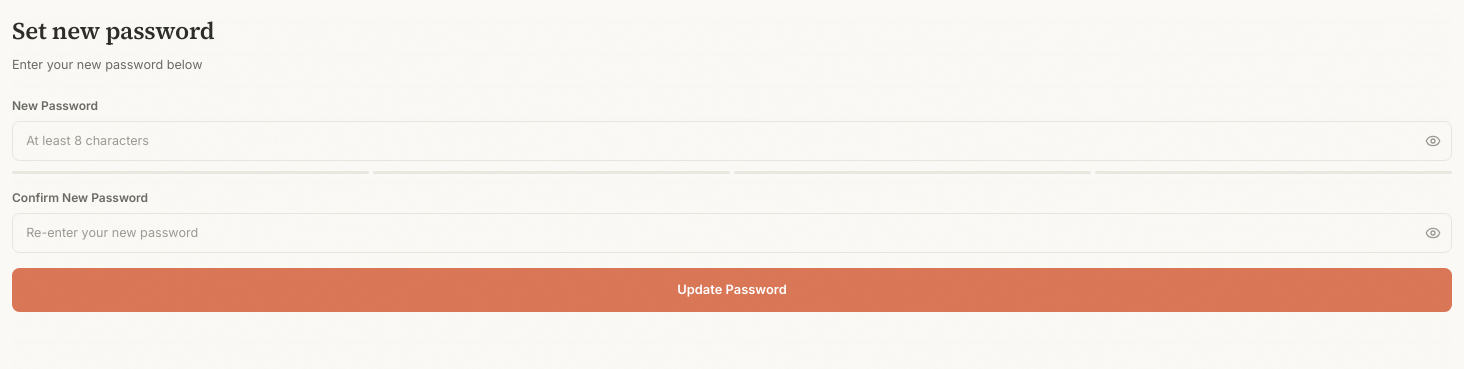
it: UpdatePasswordForm › shows validation error when passwords don't match
Type "MyNewPass1!" into the password field with placeholder "At least 8 characters" at (732, 141), box [12,121,1452,161]
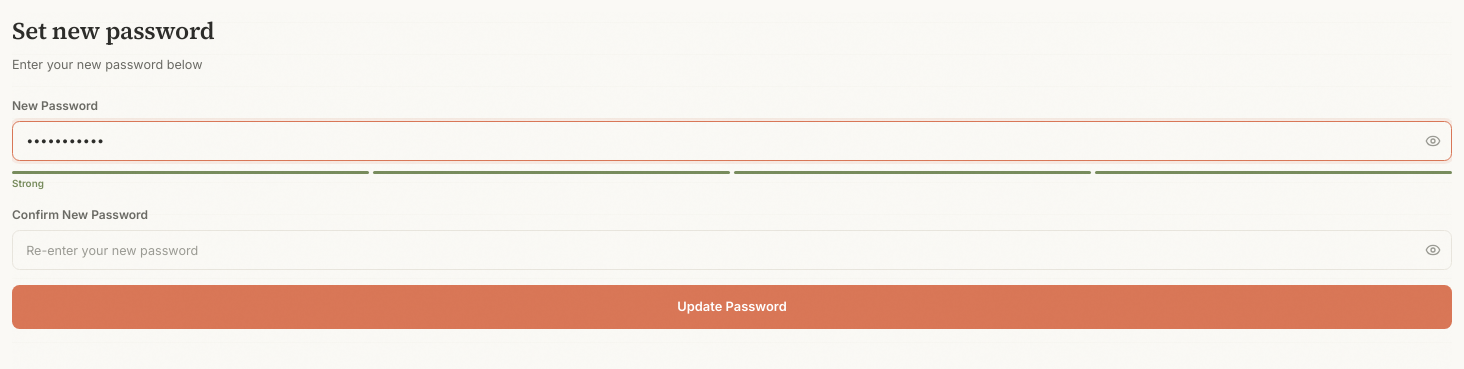
Type "DifferentPass!" into the password field with placeholder "Re-enter your new password" at (732, 250), box [12,230,1452,270]
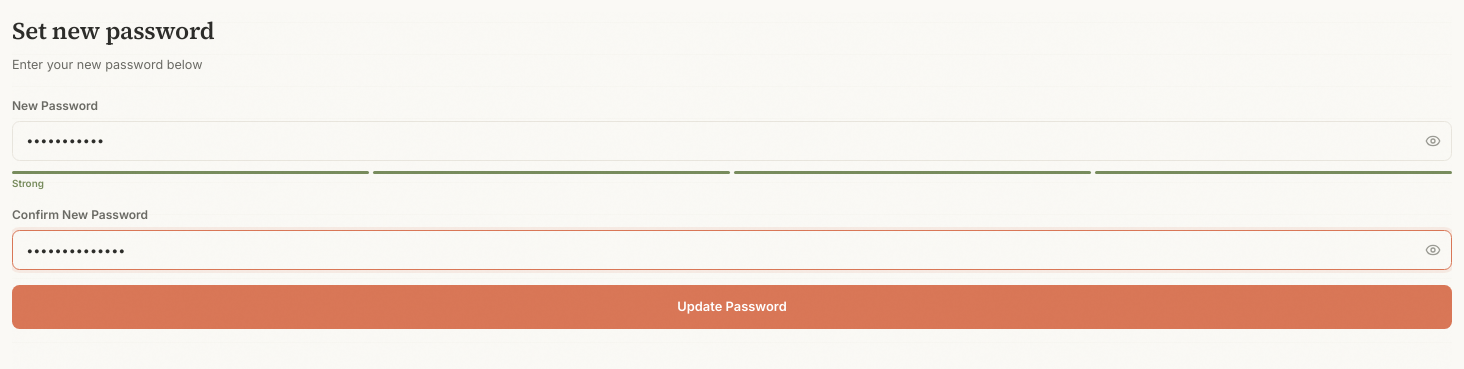
Click the button "Update Password" at (732, 307), box [12,285,1452,329]
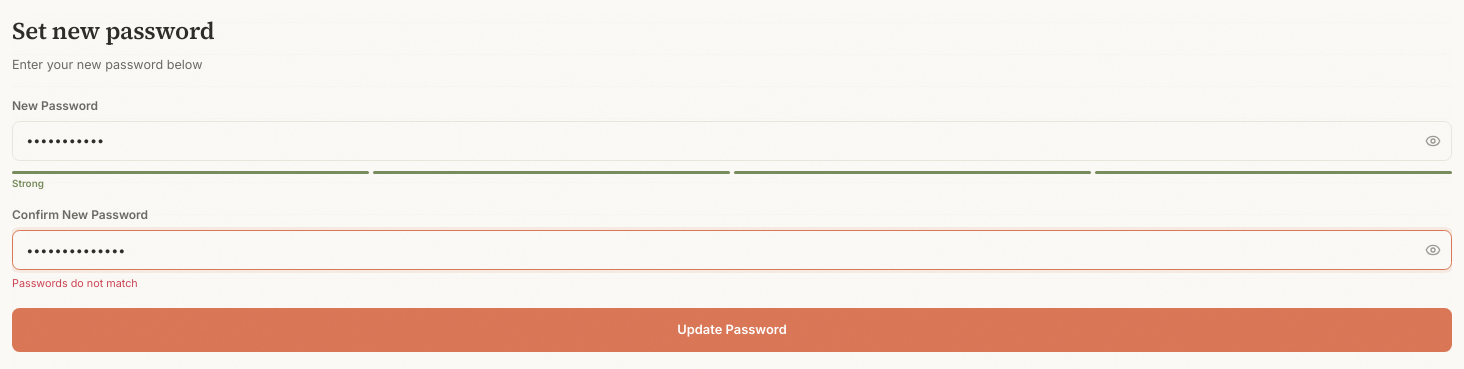
Expected: the text "Passwords do not match" is shown, [12,277,138,290]
